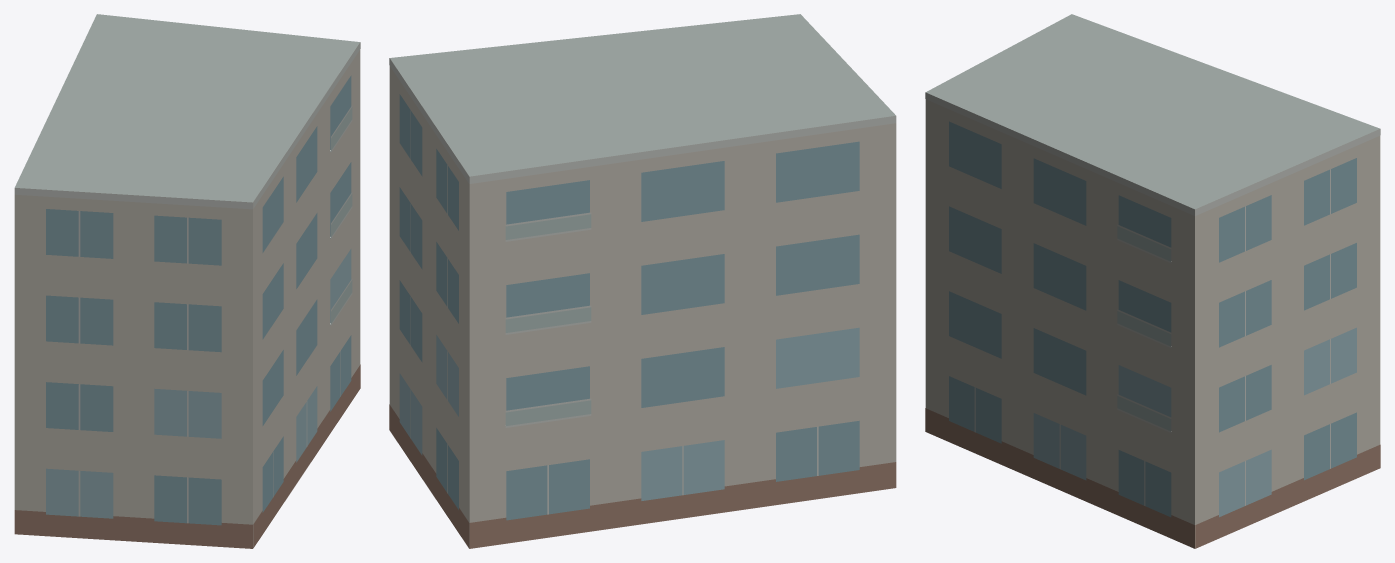
Rendered from survey-upis-32644066.glb.
The picture shows the model from 3 angles, left to right: view 1: azimuth 30°, elevation 25°; view 2: azimuth 150°, elevation 25°; view 3: azimuth 270°, elevation 25°; orthographic projection. The views are drawn at different scales.
Parts seen in each view (by area): view 1: survey-upis-32644066.tmp; view 2: survey-upis-32644066.tmp; view 3: survey-upis-32644066.tmp.
Part boxes in pixels (x1=…): survey-upis-32644066.tmp: x1=14, y1=14, x2=360, y2=548; survey-upis-32644066.tmp: x1=389, y1=14, x2=896, y2=548; survey-upis-32644066.tmp: x1=925, y1=14, x2=1380, y2=548.
Bounding box in the file's own units: 15.07 × 12.2 × 14.83.
